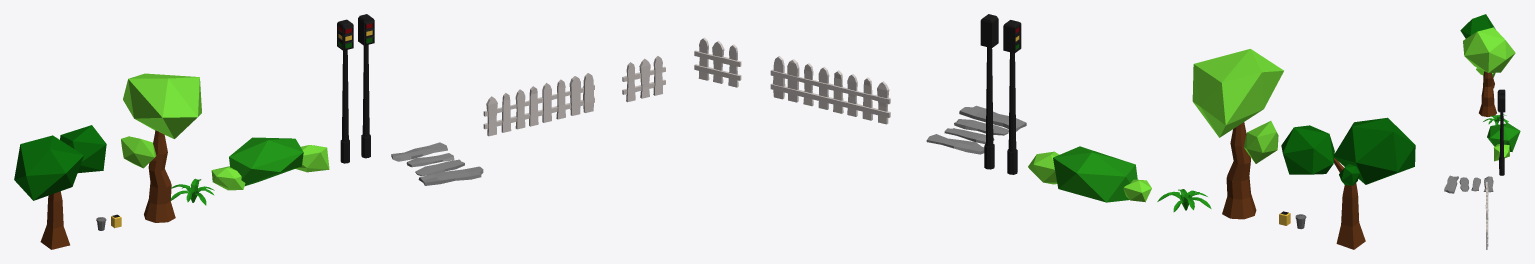
Rendered from Decoraciones.fbx.
3 renders of one model, left to right at view 1: azimuth 30°, elevation 25°; view 2: azimuth 150°, elevation 25°; view 3: azimuth 270°, elevation 25°, orthographic. The views are drawn at different scales.
Visible parts, largest first — view 1: Arbol_1, Arbol_2, Arbustos, Vallas_x8, Camino_piedras, Semaforo_1, Semaforo_2, Vallas_x3, Planta; view 2: Arbol_1, Arbol_2, Arbustos, Vallas_x8, Camino_piedras, Semaforo_1, Semaforo_2, Vallas_x3, Planta; view 3: Arbol_1, Arbustos, Camino_piedras, Arbol_2, Semaforo_1, Planta, Vallas_x8, Semaforo_2, Vallas_x3.
Part boxes in pixels (x1,y1,x2,y2): Arbol_1: (121,73,201,222); Arbol_2: (14,125,106,249); Arbustos: (211,137,329,190); Vallas_x8: (483,73,594,136); Camino_piedras: (391,142,483,185); Semaforo_1: (358,14,374,158); Semaforo_2: (337,19,353,163); Vallas_x3: (622,56,665,102); Planta: (170,178,214,205); Arbol_1: (1192,49,1283,219); Arbol_2: (1281,117,1415,249); Arbustos: (1028,146,1151,202); Vallas_x8: (770,56,890,124); Camino_piedras: (926,105,1026,154); Semaforo_1: (980,14,998,169); Semaforo_2: (1003,20,1021,174); Vallas_x3: (694,37,741,87); Planta: (1157,189,1211,212); Arbol_1: (1463,27,1515,116); Arbustos: (1487,123,1520,161); Camino_piedras: (1444,175,1493,193); Arbol_2: (1460,14,1495,88); Semaforo_1: (1497,95,1505,175); Planta: (1483,114,1508,124); Vallas_x8: (1485,182,1488,224); Semaforo_2: (1497,89,1505,168); Vallas_x3: (1486,219,1488,249).
Bounding box in the file's own units: 17960 × 3917 × 3234.
